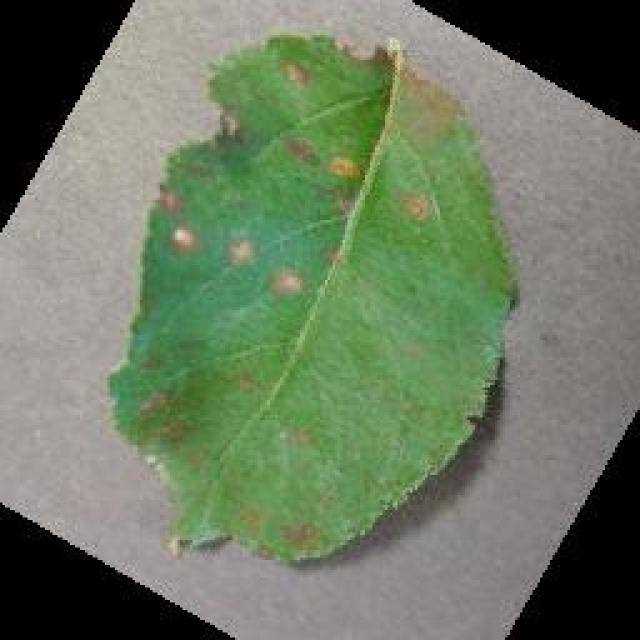apple rust disease: (102, 27, 520, 565)
